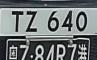0: (74, 9, 89, 33)
4: (61, 9, 75, 34)
6: (47, 9, 60, 34)
T: (9, 9, 26, 34)
Z: (24, 9, 40, 34)
